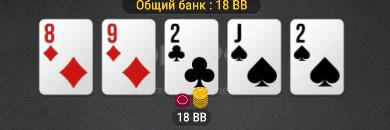2c: (166, 20, 217, 93)
2s: (293, 21, 343, 93)
8d: (40, 21, 91, 93)
9d: (103, 20, 154, 92)
Js: (229, 21, 281, 94)
